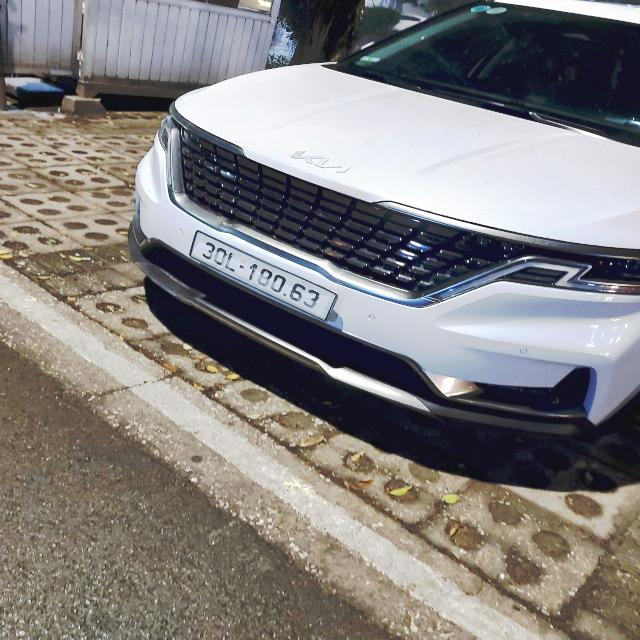license_plate: (186, 227, 346, 327)
